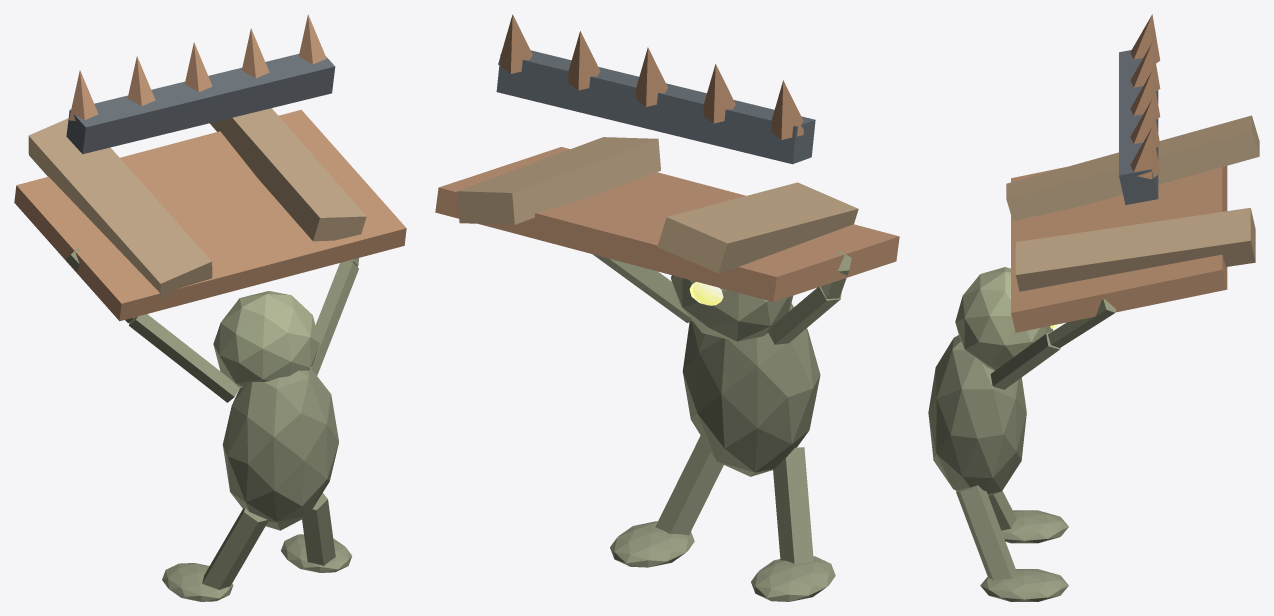
The model's file is 03_scrap_phalanx.glb.
3 renders of one model, left to right at view 1: azimuth 30°, elevation 25°; view 2: azimuth 150°, elevation 25°; view 3: azimuth 270°, elevation 25°, orthographic. The views are drawn at different scales.
Visible parts, largest first — view 1: scrap_phalanx_rusted_car_door_shield, scrap_phalanx_small_body, scrap_phalanx_wood_plank_shield_left, scrap_phalanx_jagged_scrap_top_edge, scrap_phalanx_wood_plank_shield_right, scrap_phalanx_cyclops_head, scrap_phalanx_upper_arm_support_-1, scrap_phalanx_leg_-1, scrap_phalanx_upper_arm_support_1, scrap_phalanx_foot_-1, scrap_phalanx_leg_1, scrap_phalanx_foot_1 (+5 smaller); view 2: scrap_phalanx_rusted_car_door_shield, scrap_phalanx_small_body, scrap_phalanx_jagged_scrap_top_edge, scrap_phalanx_wood_plank_shield_left, scrap_phalanx_wood_plank_shield_right, scrap_phalanx_cyclops_head, scrap_phalanx_leg_-1, scrap_phalanx_leg_1, scrap_phalanx_foot_-1, scrap_phalanx_foot_1, scrap_phalanx_upper_arm_support_1, scrap_phalanx_upper_arm_support_-1 (+5 smaller); view 3: scrap_phalanx_rusted_car_door_shield, scrap_phalanx_wood_plank_shield_right, scrap_phalanx_small_body, scrap_phalanx_wood_plank_shield_left, scrap_phalanx_cyclops_head, scrap_phalanx_jagged_scrap_top_edge, scrap_phalanx_leg_1, scrap_phalanx_foot_1, scrap_phalanx_foot_-1, scrap_phalanx_upper_arm_support_1, scrap_phalanx_forearm_support_1, scrap_phalanx_shield_jagged_tooth_4 (+5 smaller).
Boxes of the visible parts, x1,y1,x2,y2 form: scrap_phalanx_rusted_car_door_shield: (14, 109, 406, 321); scrap_phalanx_small_body: (222, 368, 338, 530); scrap_phalanx_wood_plank_shield_left: (28, 118, 212, 301); scrap_phalanx_jagged_scrap_top_edge: (66, 54, 335, 154); scrap_phalanx_wood_plank_shield_right: (210, 108, 366, 241); scrap_phalanx_cyclops_head: (213, 291, 319, 387); scrap_phalanx_upper_arm_support_-1: (129, 314, 239, 402); scrap_phalanx_leg_-1: (202, 508, 267, 589); scrap_phalanx_upper_arm_support_1: (310, 261, 358, 375); scrap_phalanx_foot_-1: (162, 563, 233, 601); scrap_phalanx_leg_1: (302, 493, 335, 572); scrap_phalanx_foot_1: (281, 534, 351, 572); scrap_phalanx_rusted_car_door_shield: (435, 147, 899, 301); scrap_phalanx_small_body: (682, 303, 820, 476); scrap_phalanx_jagged_scrap_top_edge: (496, 50, 815, 164); scrap_phalanx_wood_plank_shield_left: (657, 182, 858, 273); scrap_phalanx_wood_plank_shield_right: (457, 137, 660, 224); scrap_phalanx_cyclops_head: (671, 275, 792, 341); scrap_phalanx_leg_-1: (773, 447, 813, 563); scrap_phalanx_leg_1: (655, 435, 723, 535); scrap_phalanx_foot_-1: (751, 556, 835, 601); scrap_phalanx_foot_1: (610, 521, 694, 567); scrap_phalanx_upper_arm_support_1: (593, 254, 692, 322); scrap_phalanx_upper_arm_support_-1: (768, 286, 841, 344); scrap_phalanx_rusted_car_door_shield: (1011, 166, 1227, 332); scrap_phalanx_wood_plank_shield_right: (1015, 207, 1255, 291); scrap_phalanx_small_body: (928, 335, 1026, 496); scrap_phalanx_wood_plank_shield_left: (1006, 115, 1259, 220); scrap_phalanx_cyclops_head: (955, 267, 1052, 370); scrap_phalanx_jagged_scrap_top_edge: (1119, 50, 1158, 204); scrap_phalanx_leg_1: (956, 485, 1016, 580); scrap_phalanx_foot_1: (980, 569, 1068, 601); scrap_phalanx_foot_-1: (1001, 510, 1068, 543); scrap_phalanx_upper_arm_support_1: (990, 331, 1060, 389); scrap_phalanx_forearm_support_1: (1048, 299, 1116, 347); scrap_phalanx_shield_jagged_tooth_4: (1130, 127, 1160, 179).
Size of the model in its own units: 1.26 by 1.97 by 1.19.
